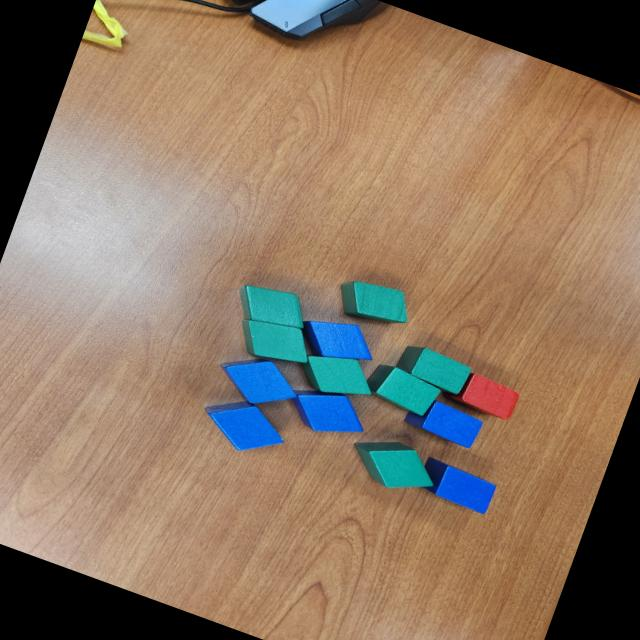blue: (195, 388, 294, 464), (211, 346, 306, 418), (282, 378, 373, 448), (293, 307, 383, 376), (415, 456, 498, 516), (401, 392, 485, 451)
green: (344, 428, 445, 502), (292, 342, 381, 408), (228, 274, 314, 340), (231, 310, 319, 374), (331, 270, 416, 336), (361, 360, 444, 420), (392, 339, 474, 398)
red: (439, 365, 522, 425)
